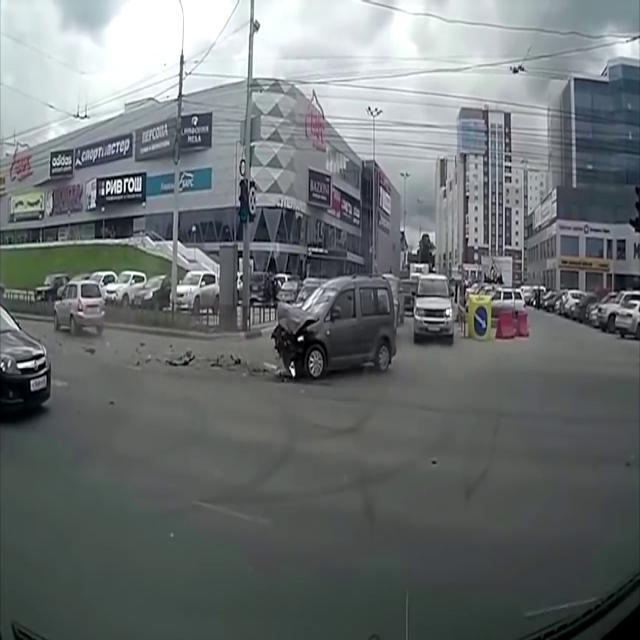multiple_accident: (264, 227, 479, 385)
normal: (596, 290, 640, 338)
